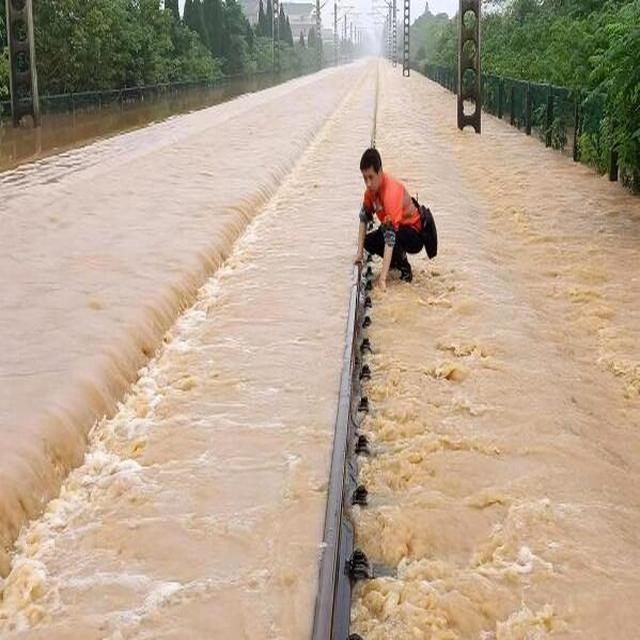Person-RiskLevel2: (338, 140, 450, 292)
